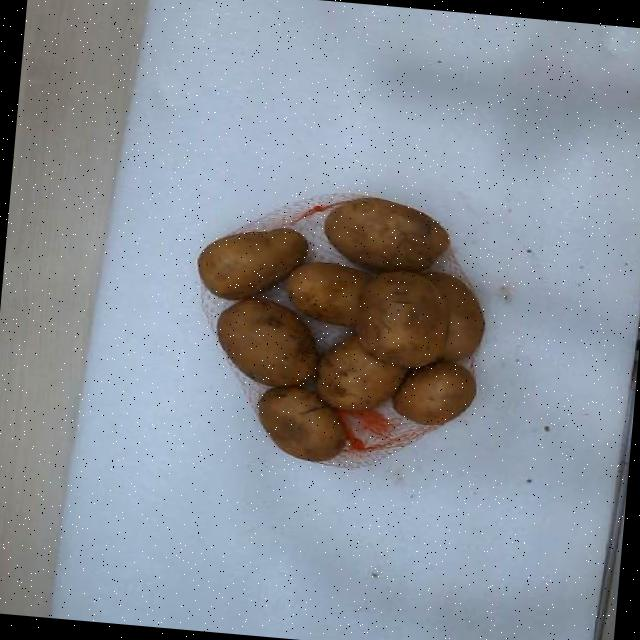potato: (217, 297, 318, 386), (324, 197, 448, 269), (357, 270, 448, 366), (197, 227, 306, 298), (316, 334, 407, 409), (258, 386, 345, 461), (423, 272, 483, 360), (287, 262, 368, 325), (394, 361, 474, 423)
